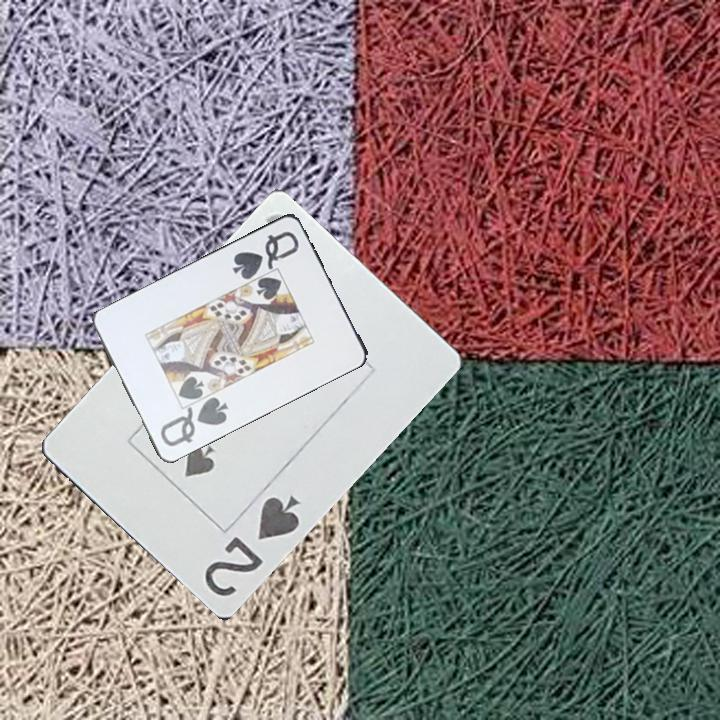2s: (201, 492, 304, 600)
Qs: (157, 393, 231, 449), (229, 227, 302, 282)
